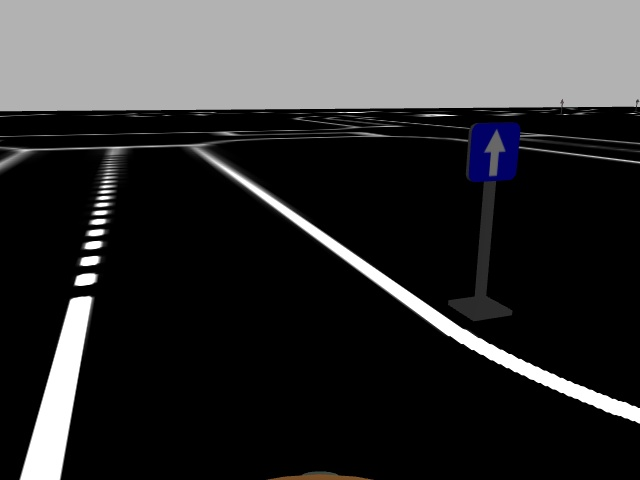oneway: (464, 122, 523, 185)
